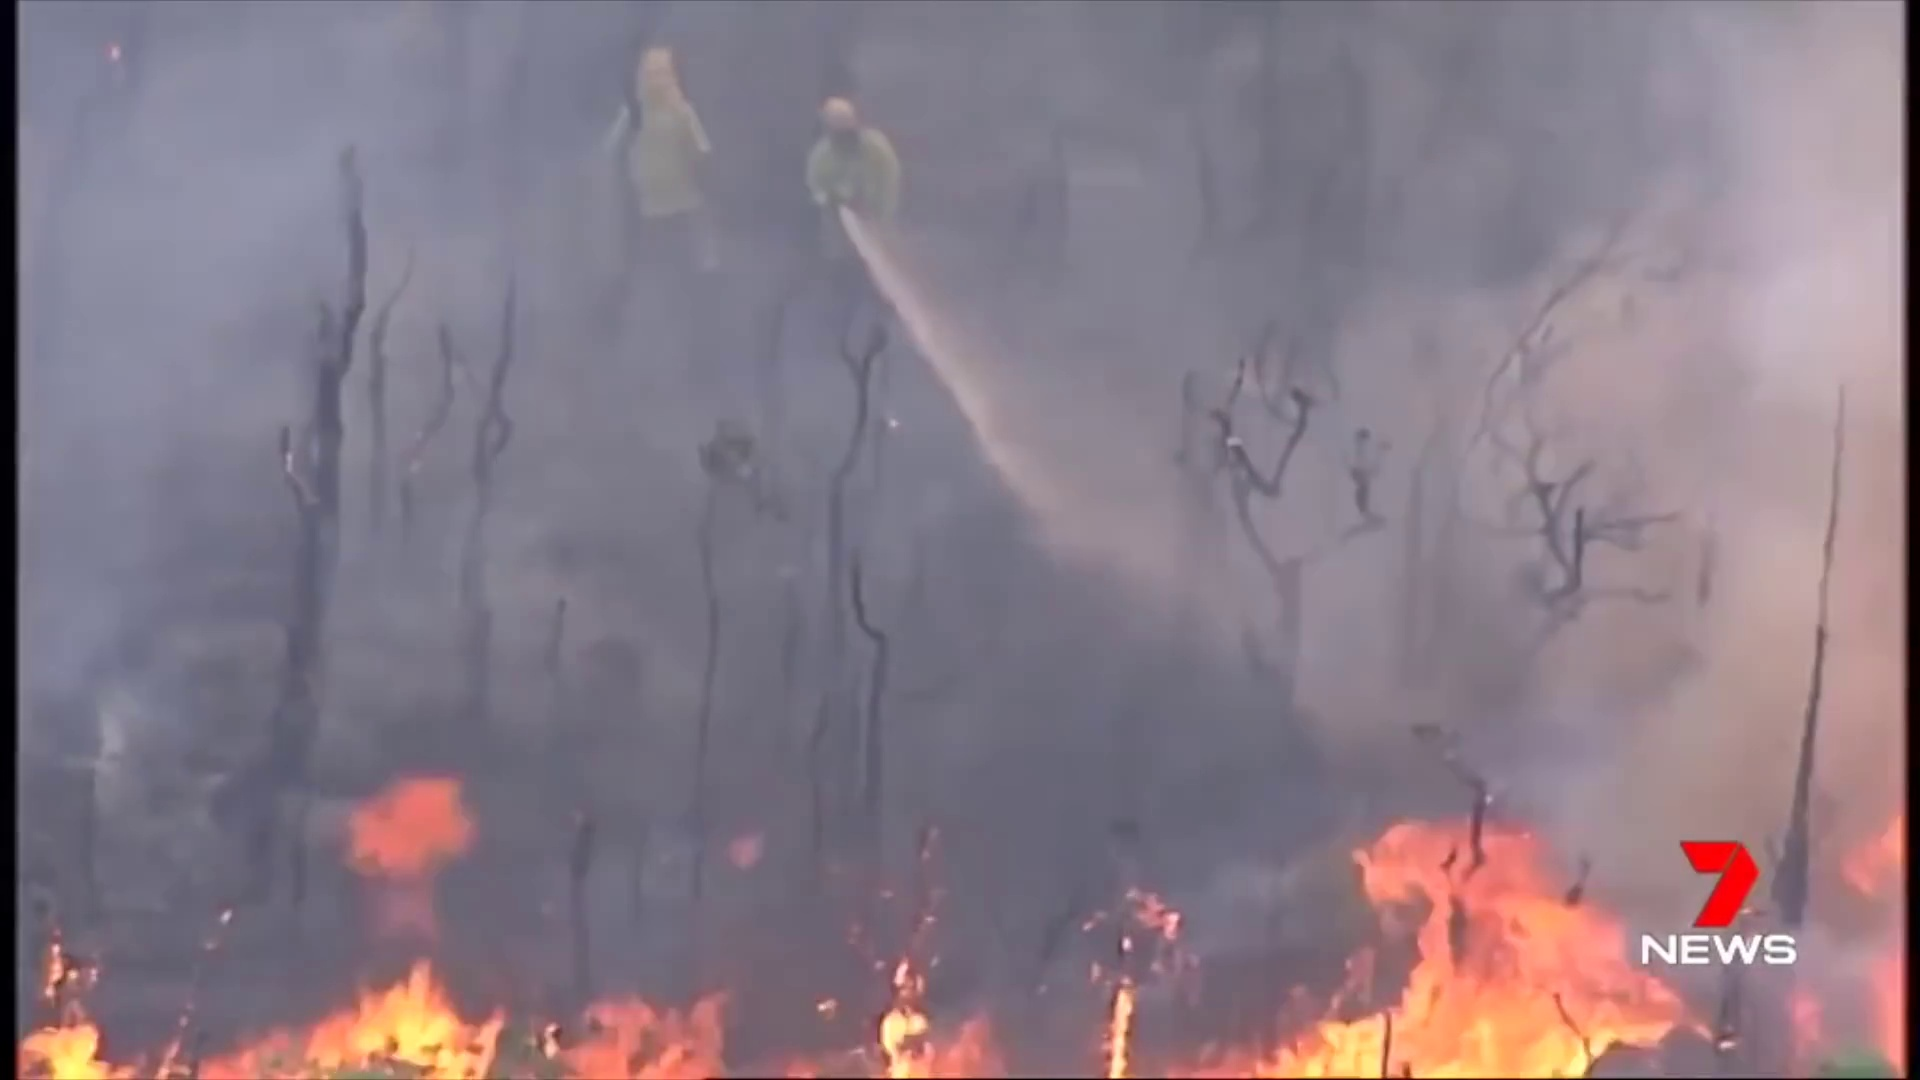fire: (1279, 808, 1677, 1080), (535, 981, 721, 1080), (291, 984, 469, 1080), (20, 1025, 102, 1080), (880, 1007, 934, 1080), (1113, 990, 1129, 1080)
